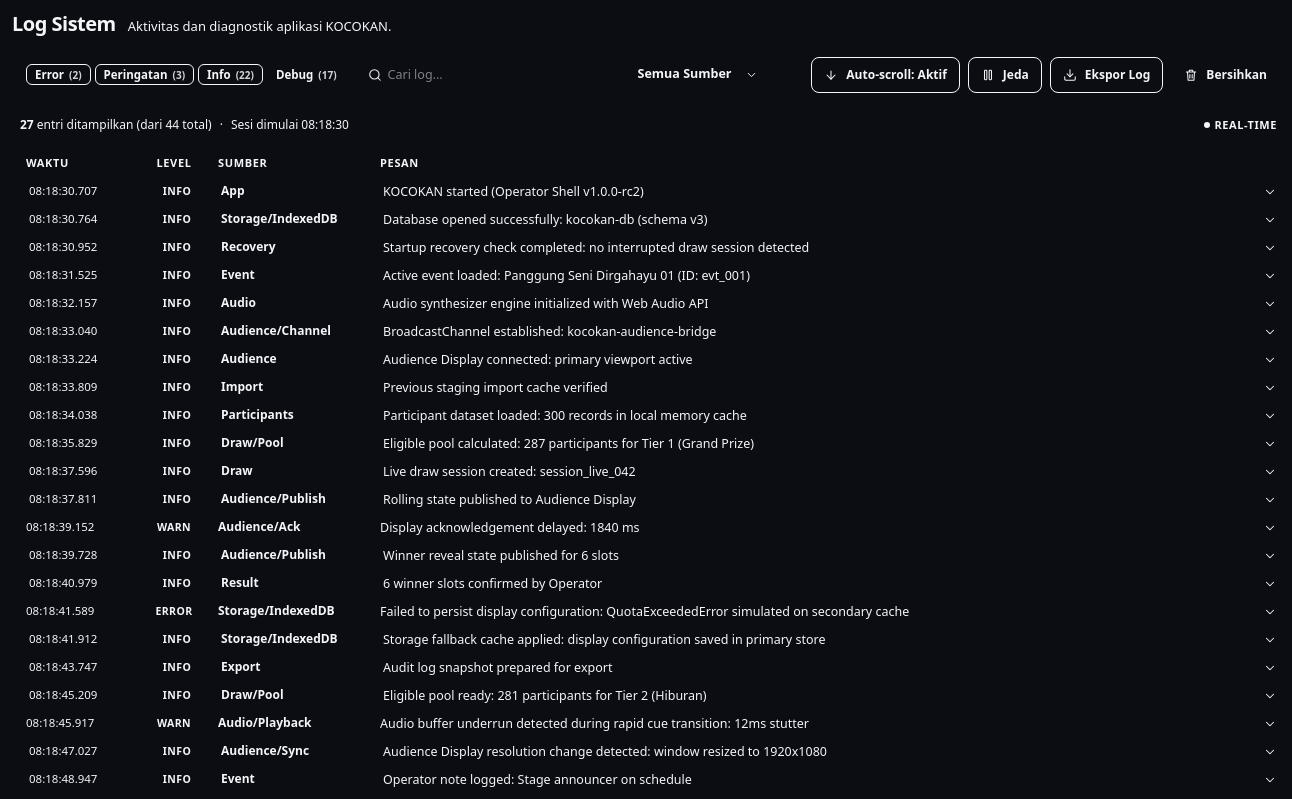
Test case: LogPage › toggles pause and resume
The width and height of the screenshot is (1292, 799).
Click the button "Jeda": {"x": 1005, "y": 74} [968,56,1042,92]
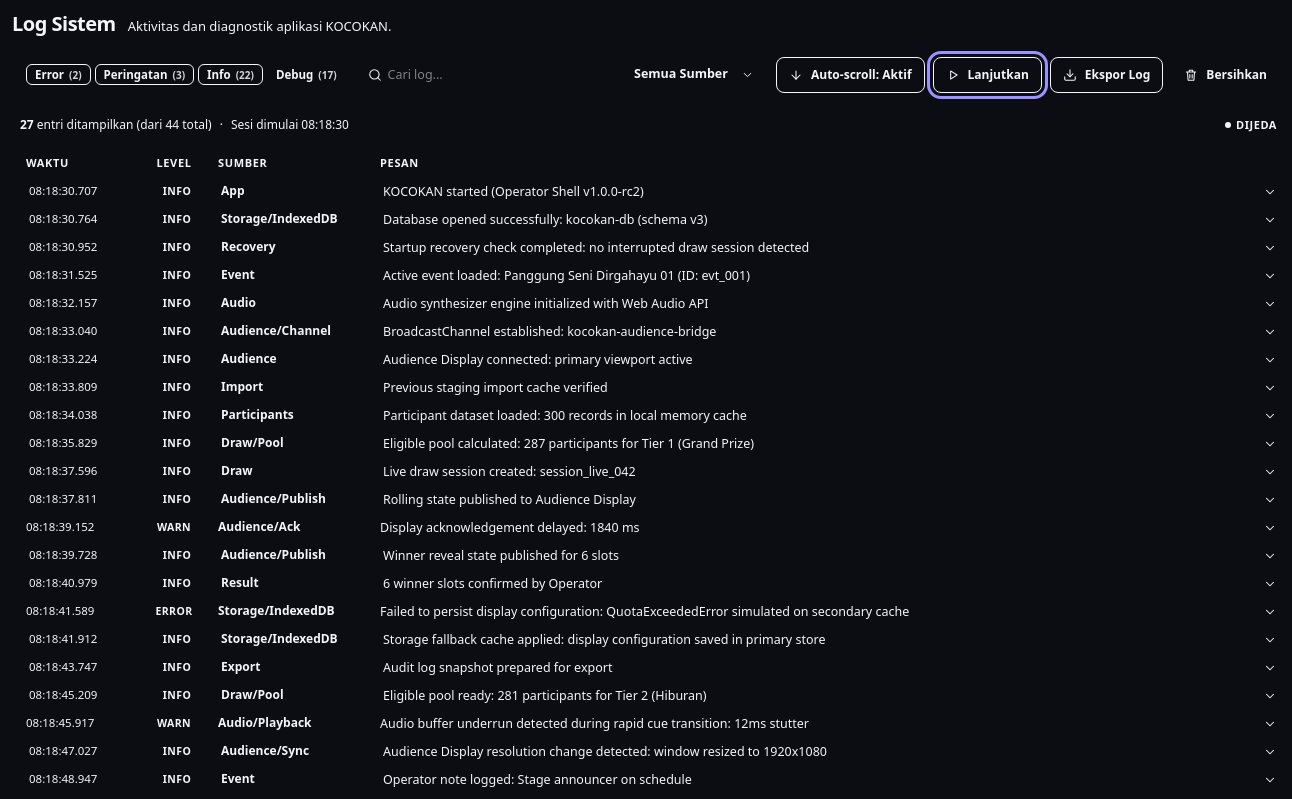
Expected: the button "Lanjutkan" is shown
Expected: the text "Dijeda" is shown, [1225,116,1277,132]
Click the button "Lanjutkan": {"x": 987, "y": 74} [932,56,1042,92]
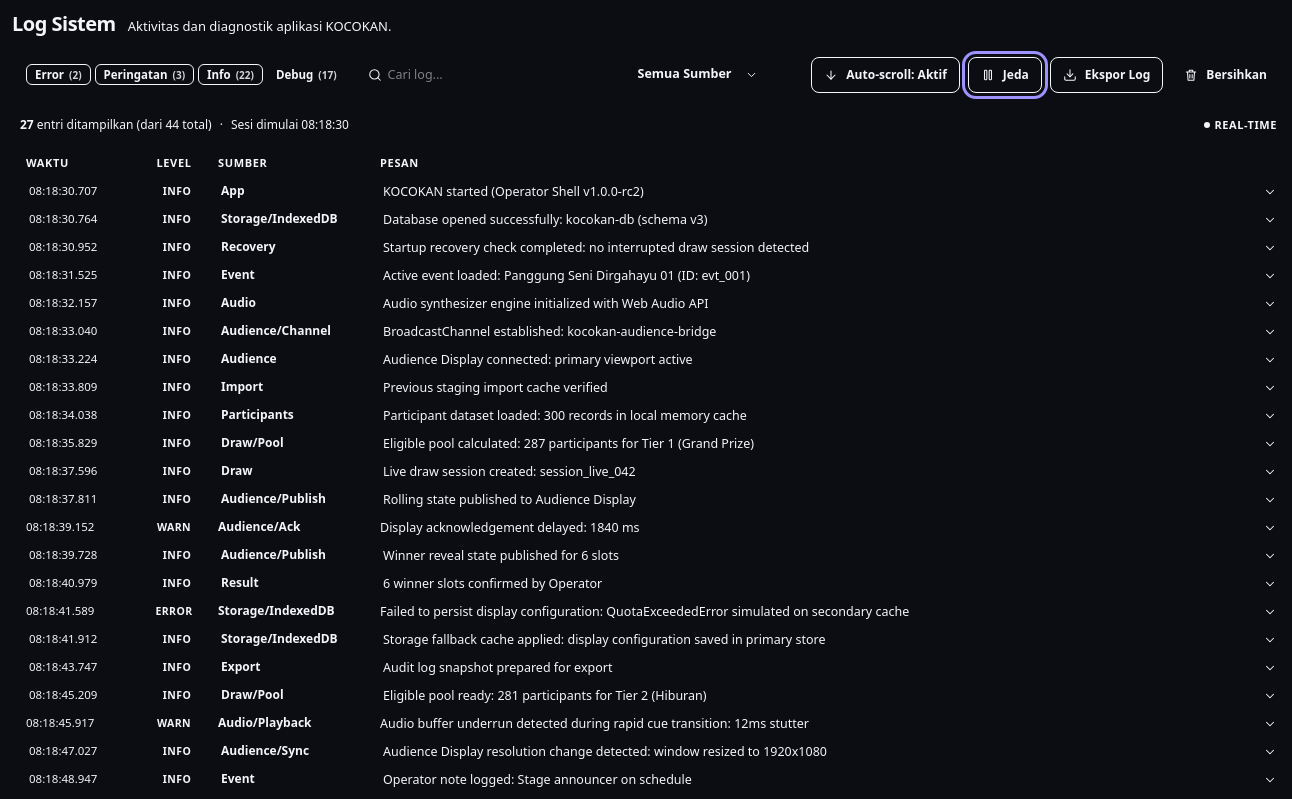
Expected: the button "Jeda" is shown, [968,56,1042,92]
Expected: the text "Real-time" is shown, [1204,116,1277,132]
